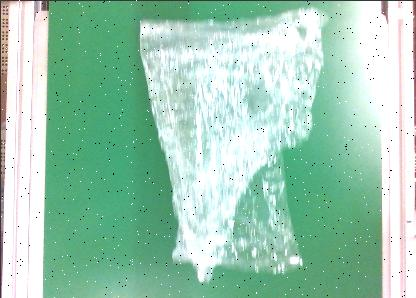Others: (136, 5, 332, 284)
